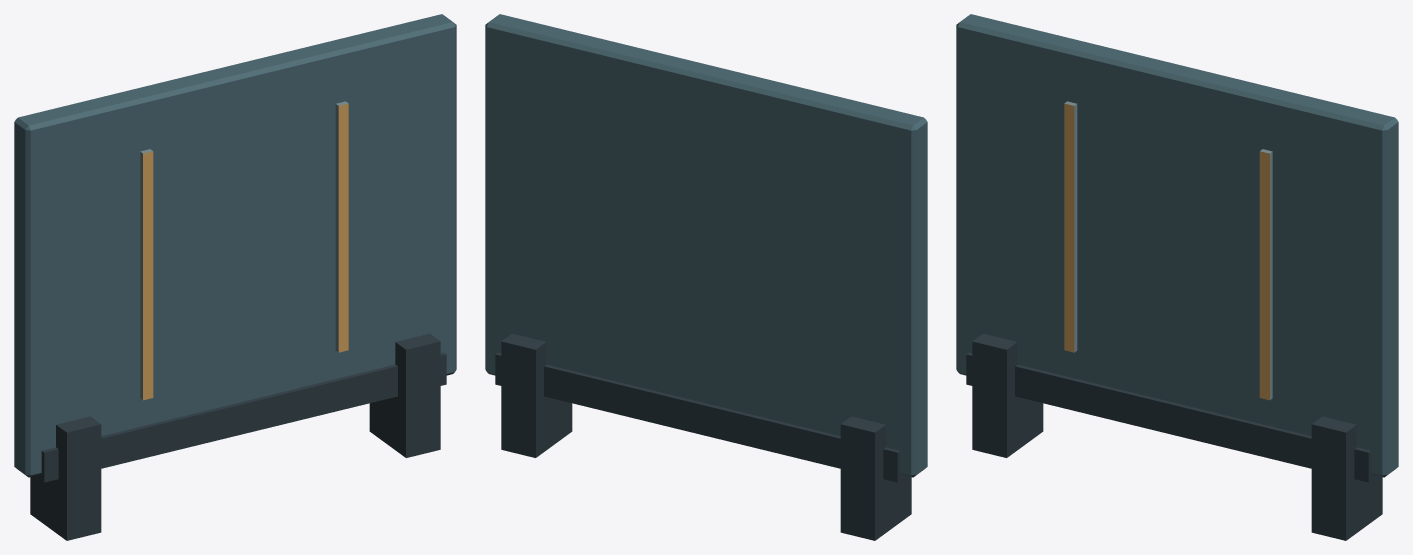
Rendered from 0-20261016-1900-ev038-r07-floor4-cubicledivider.fbx.
3 renders of one model, left to right at view 1: azimuth 30°, elevation 25°; view 2: azimuth 150°, elevation 25°; view 3: azimuth 330°, elevation 25°, orthographic.
Parts seen in each view (by area): view 1: SW_Callcenter_CubicleDivider; view 2: SW_Callcenter_CubicleDivider; view 3: SW_Callcenter_CubicleDivider.
Boxes of the visible parts, x1,y1,x2,y2 form: SW_Callcenter_CubicleDivider: [14, 14, 456, 540]; SW_Callcenter_CubicleDivider: [485, 14, 927, 540]; SW_Callcenter_CubicleDivider: [956, 14, 1398, 540].
Size of the model in its own units: 150 by 137 by 22.
